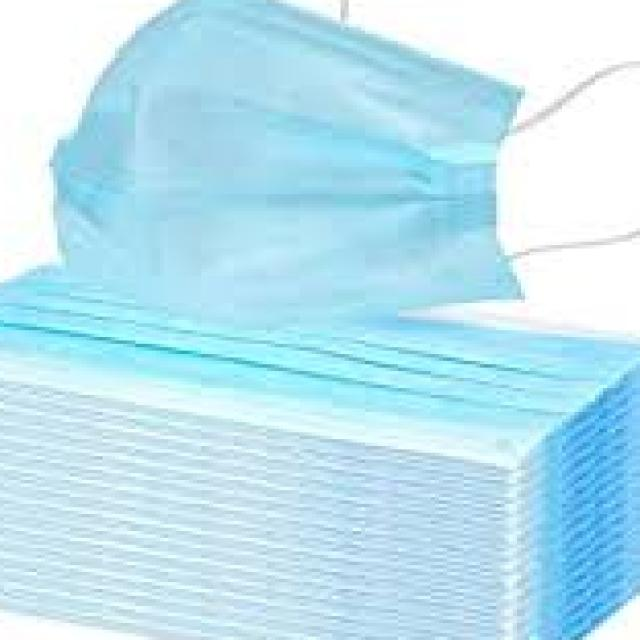organic: (26, 1, 604, 614)
